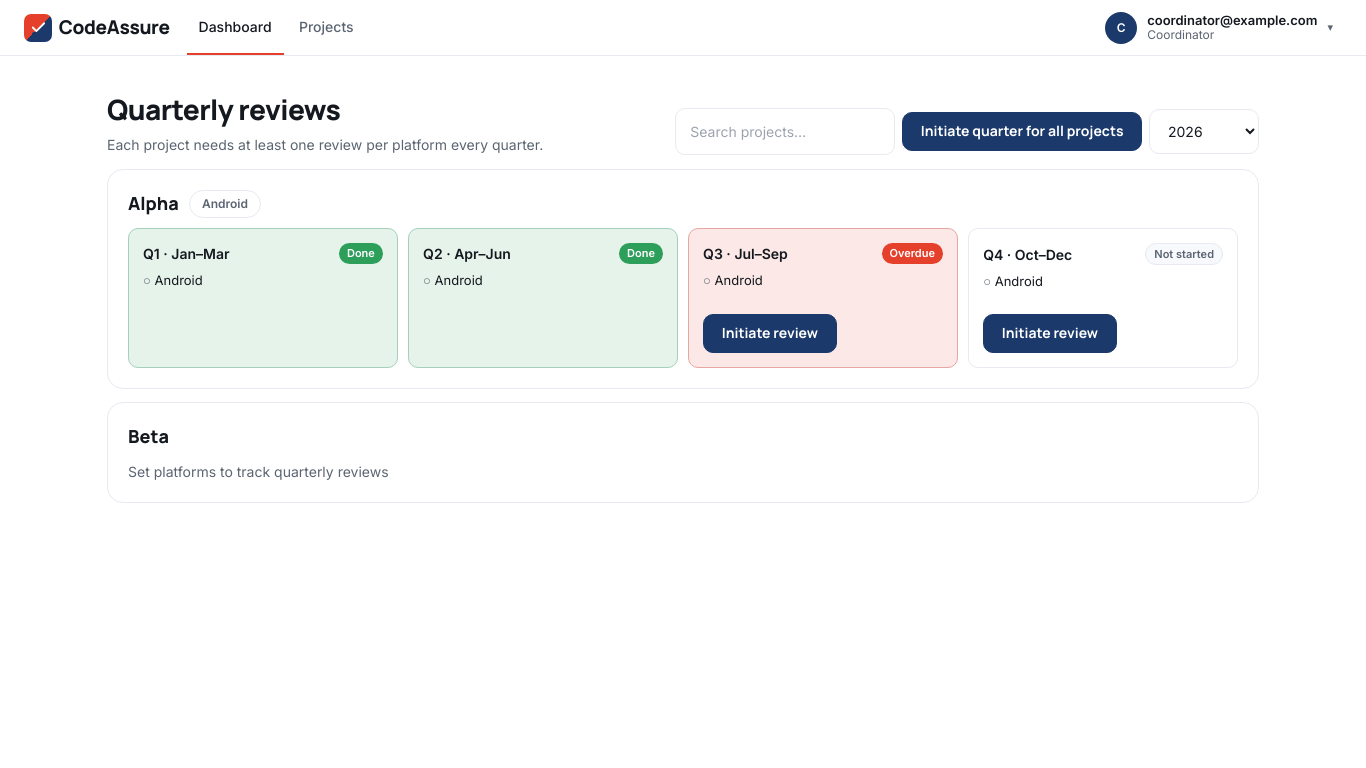
initiating replaces the quarter card
Click the button "Initiate review" below "Oct–Dec".
click(1050, 333)  # box 983,314 -> 1117,353
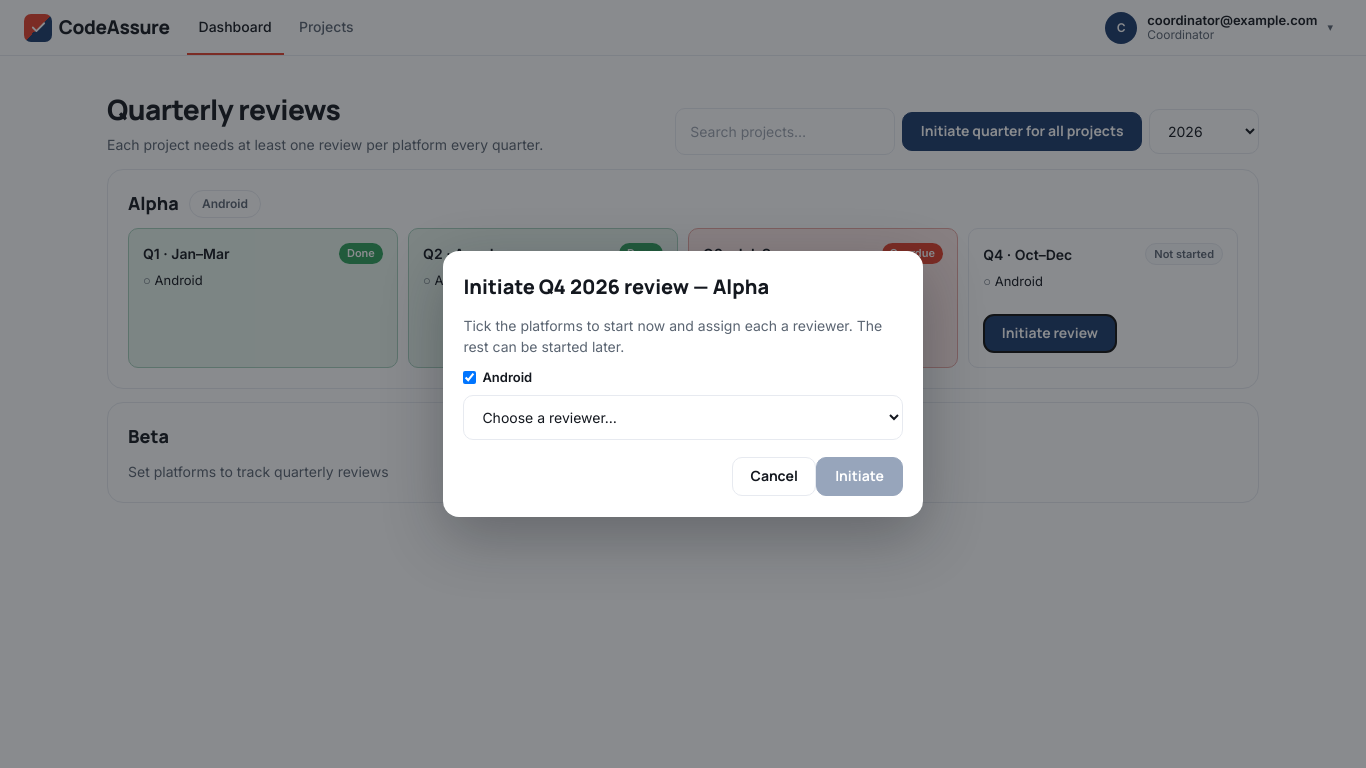
Select "Rae" in the dropdown named "Reviewer for Android" at coordinates (683, 418), box 463,395 -> 903,440
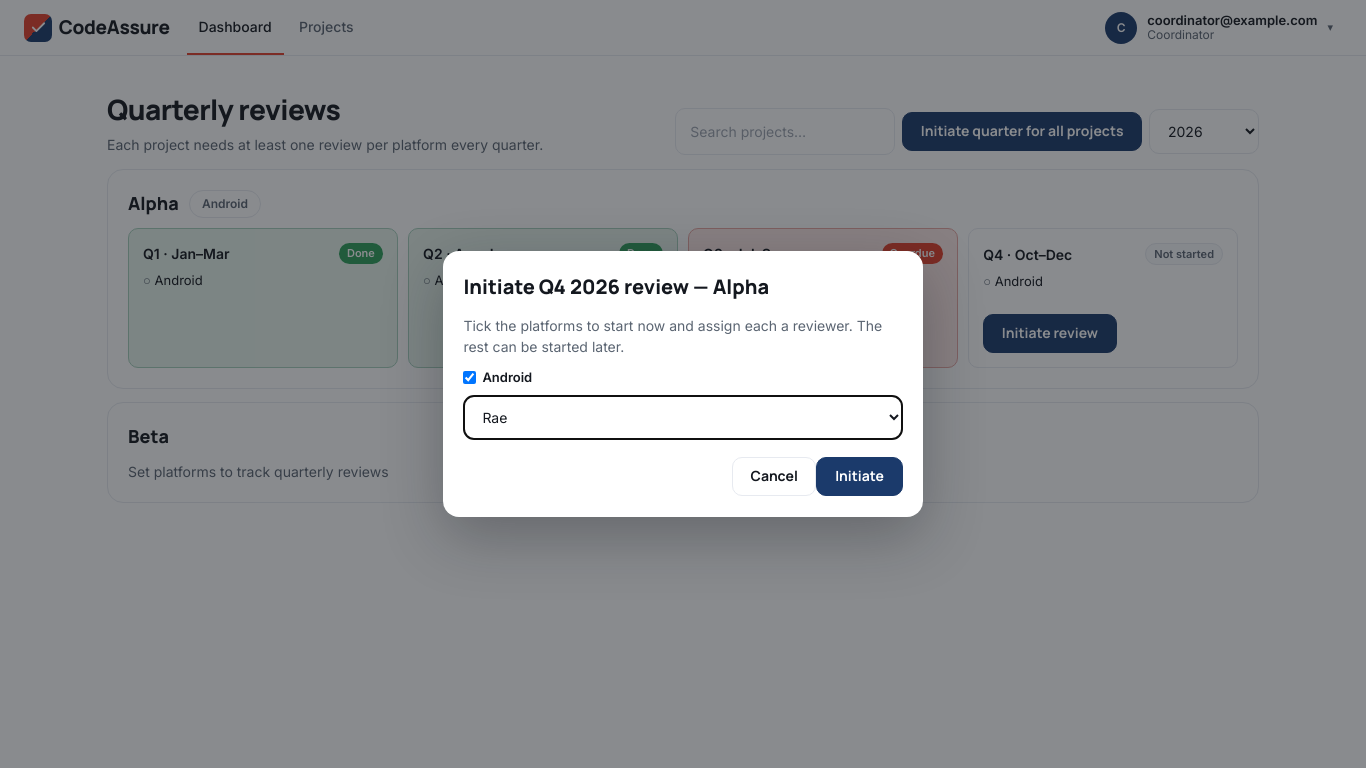
Click the button "Initiate".
click(860, 477)  # box 816,457 -> 903,496
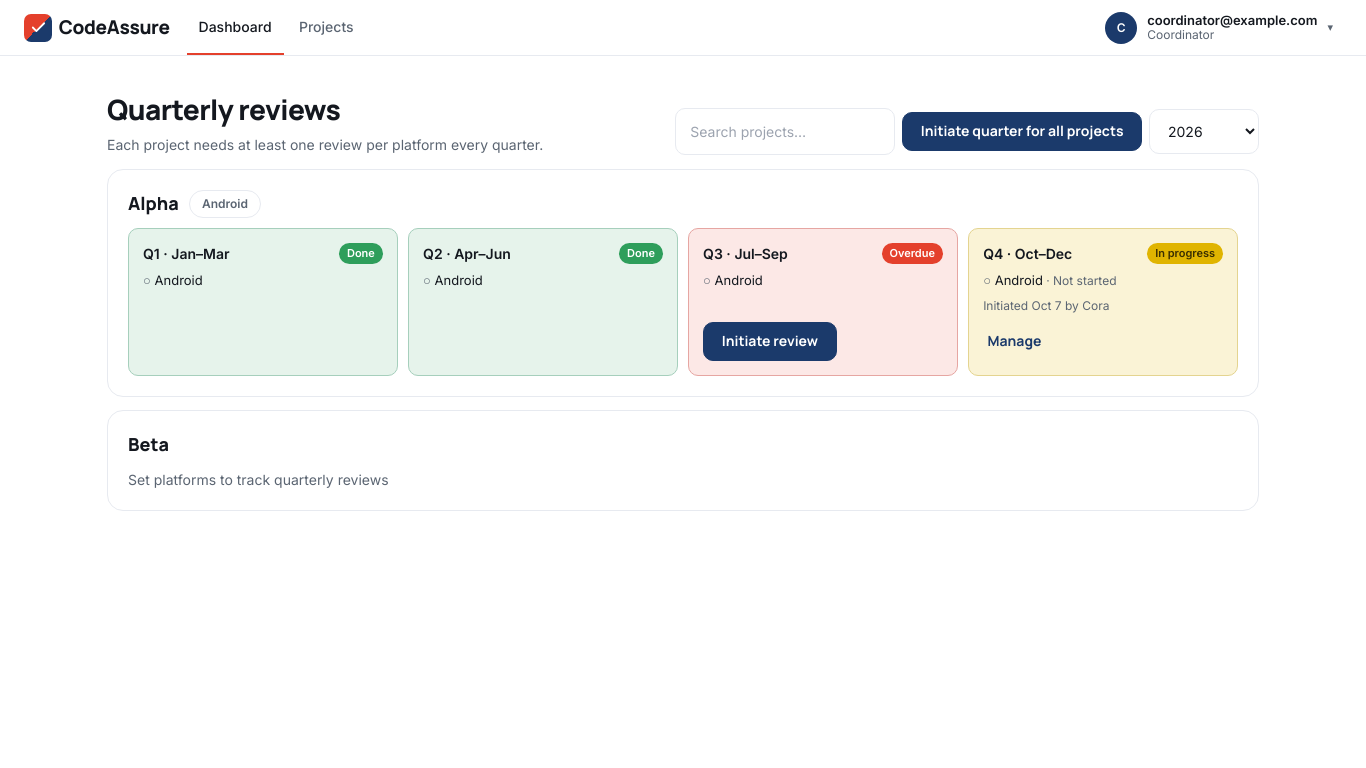
Expected: the text "In progress" is shown, 1147,243 -> 1223,264
